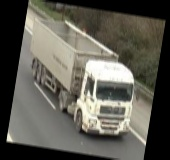truck: (17, 17, 145, 142)
